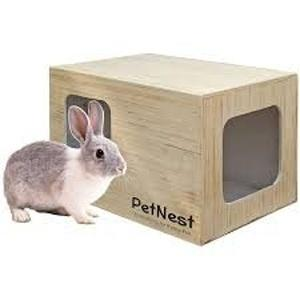rabbit: (4, 100, 126, 223)
